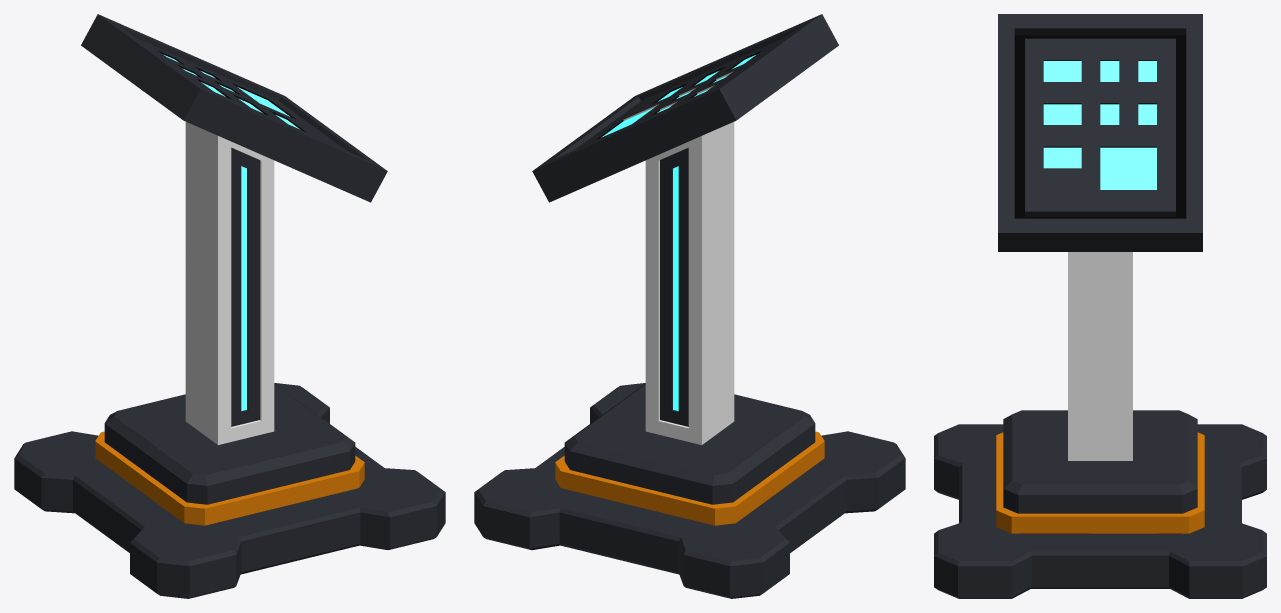
The model's file is SM_Control_Pannel.fbx.
The picture shows the model from 3 angles, left to right: view 1: azimuth 30°, elevation 25°; view 2: azimuth 150°, elevation 25°; view 3: azimuth 270°, elevation 25°; orthographic projection.
Visible parts, largest first — view 1: SM_Control_Pannel_Base; view 2: SM_Control_Pannel_Base; view 3: SM_Control_Pannel_Base.
Boxes of the visible parts, x1,y1,x2,y2 form: SM_Control_Pannel_Base: (14, 14, 445, 598); SM_Control_Pannel_Base: (474, 14, 905, 598); SM_Control_Pannel_Base: (934, 14, 1266, 598).
Bounding box in the file's own units: 80 × 127 × 80.
